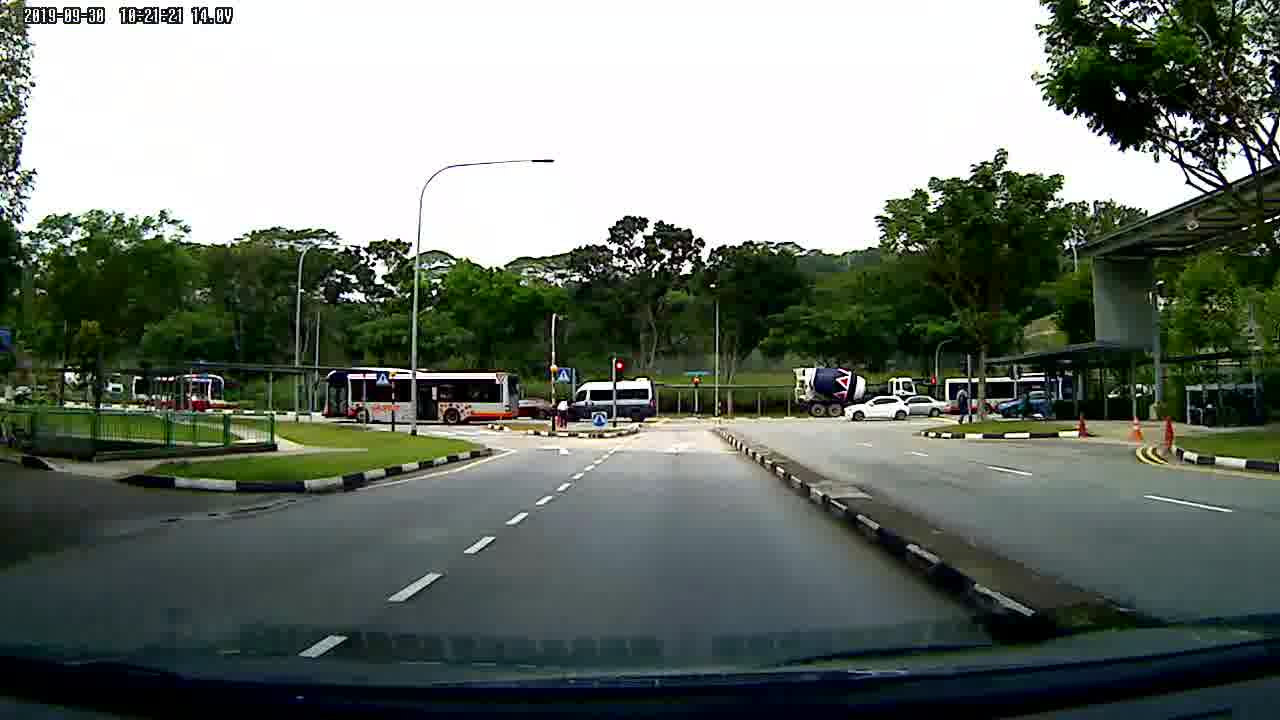bus: (321, 365, 524, 431), (943, 375, 1090, 412), (133, 372, 243, 412)
car: (843, 394, 912, 425), (995, 392, 1056, 418), (903, 392, 953, 417)
